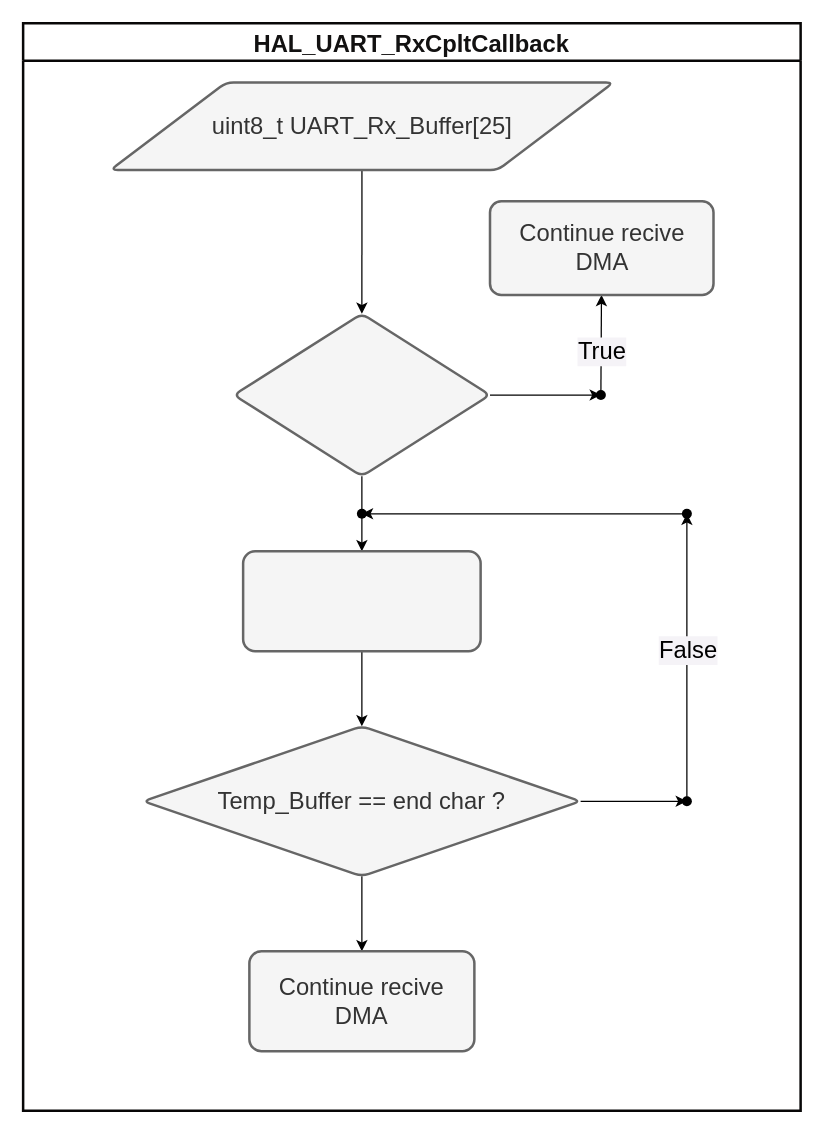
The diagram is 823 pixels wide and 1133 high, and some of its shapes have lost their labels. The shapes that lost their labels are listed below. From the top down, each one's centre as x and y in pixels, then its label:
(361,394): Check position of charactor
(361,600): Handle function, recive single byte
